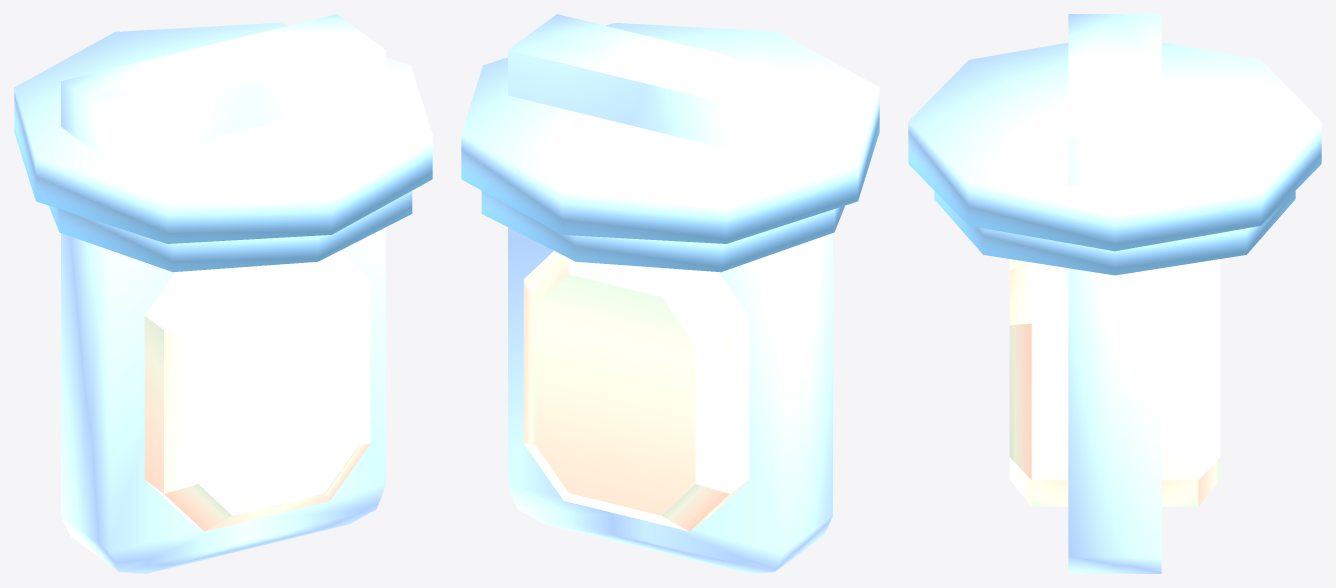
File: steel_pommel_126.glb
The picture shows the model from 3 angles, left to right: view 1: azimuth 30°, elevation 25°; view 2: azimuth 150°, elevation 25°; view 3: azimuth 270°, elevation 25°; orthographic projection. The views are drawn at different scales.
Visible parts, largest first — view 1: steel_pommel_126; view 2: steel_pommel_126; view 3: steel_pommel_126.
Boxes of the visible parts, bbox=[...] form: steel_pommel_126: bbox=[14, 14, 432, 573]; steel_pommel_126: bbox=[461, 14, 879, 573]; steel_pommel_126: bbox=[908, 14, 1321, 573].
Bounding box in the file's own units: 1.83 × 2.17 × 1.83.
Materials: 1 (1 with a texture image).
